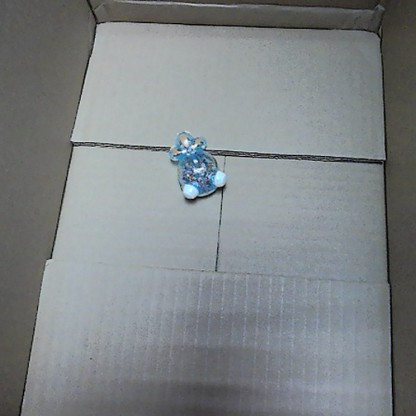bluefish: (165, 124, 229, 202)
